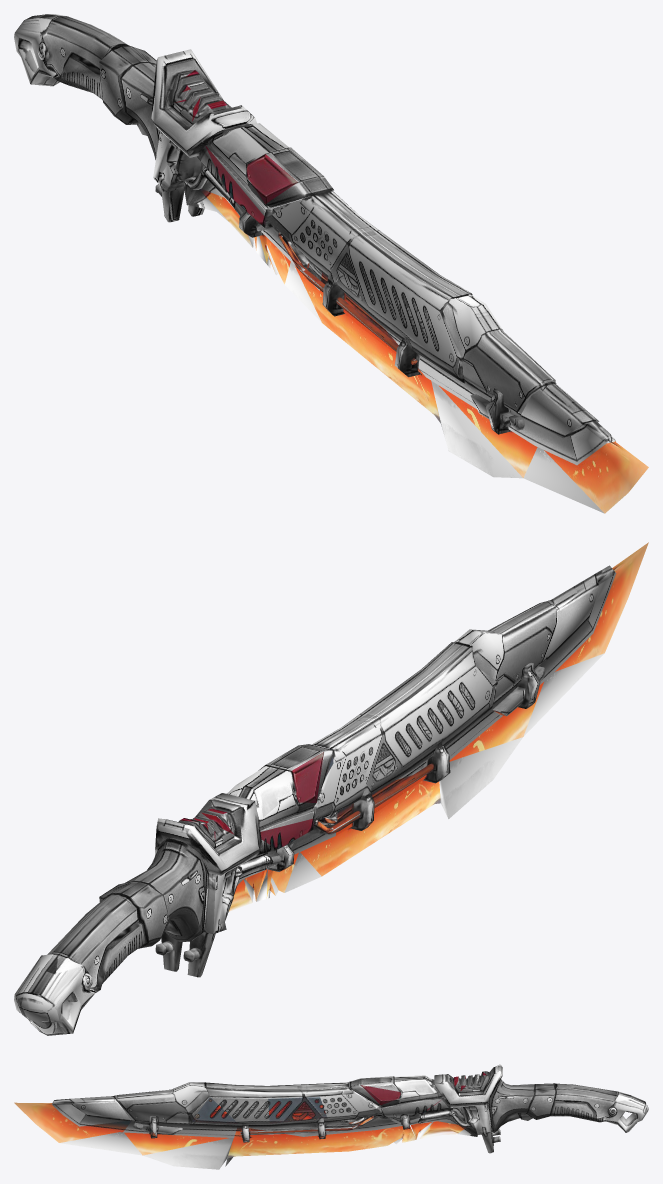
3 renders of one model, top to bottom at view 1: azimuth 30°, elevation 25°; view 2: azimuth 150°, elevation 25°; view 3: azimuth 270°, elevation 25°, orthographic. The views are drawn at different scales.
Visible parts, largest first — view 1: gun; view 2: gun; view 3: gun.
Part boxes in pixels (left/top/right/bottom): gun: left=14, top=14, right=648, bottom=513; gun: left=14, top=542, right=648, bottom=1035; gun: left=14, top=1064, right=648, bottom=1169.
Size of the model in its own units: 0.1786 by 0.4697 by 2.67.
5 materials, 5 textured.
